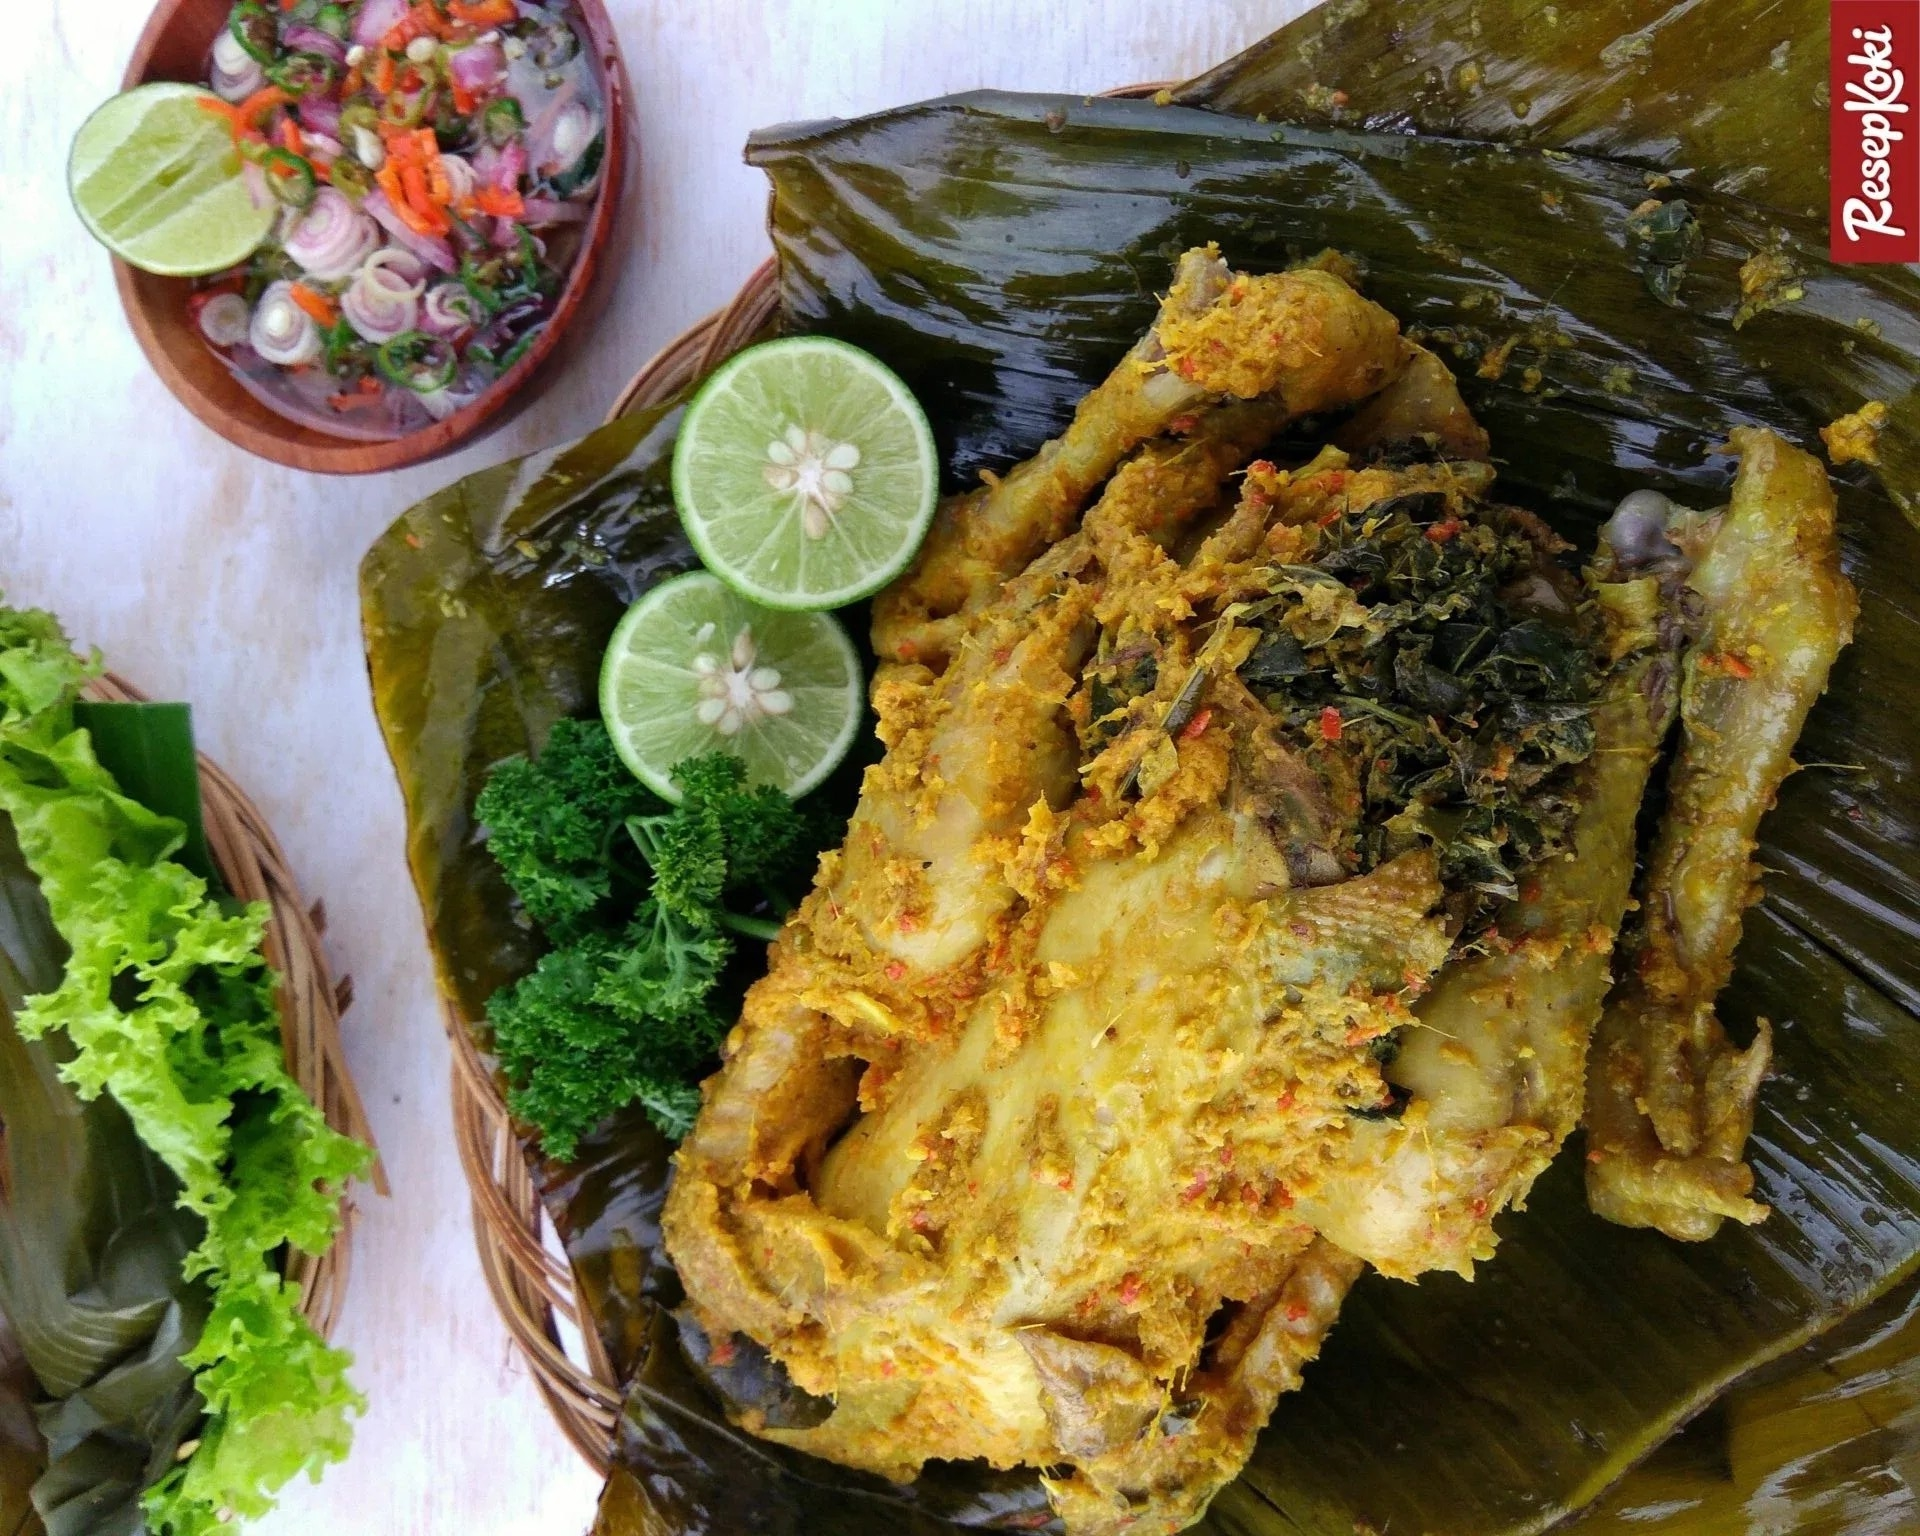ayam_betutu: (668, 243, 1860, 1536)
